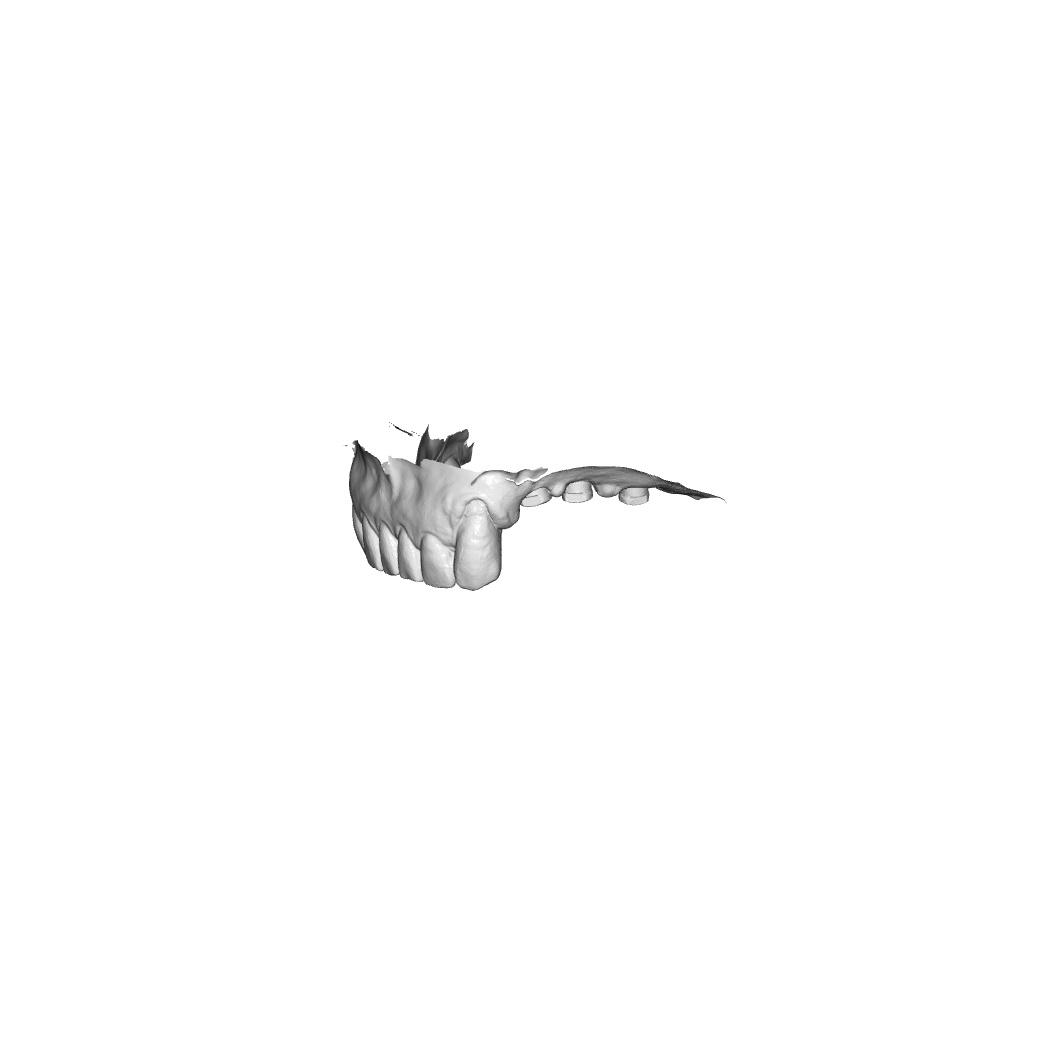canine: (453, 498, 504, 591)
implant: (561, 478, 594, 505), (519, 486, 553, 508), (617, 485, 650, 507), (593, 482, 622, 499)
incisor: (420, 532, 457, 590), (397, 525, 424, 584), (360, 512, 385, 573), (378, 519, 399, 577)
